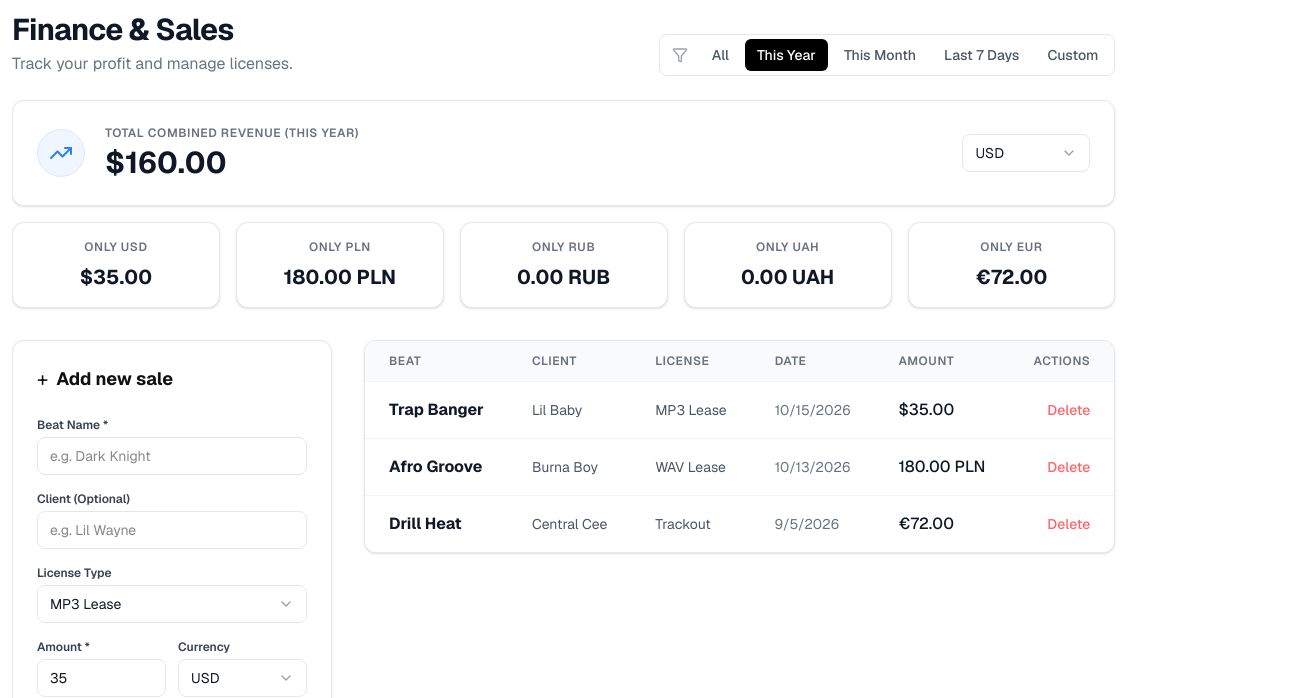
FinansePage (/finanse) › switches time filter to "Custom" and renders date pickers
Click the button "Custom".
click(1073, 55)  # box [1035,39,1110,71]
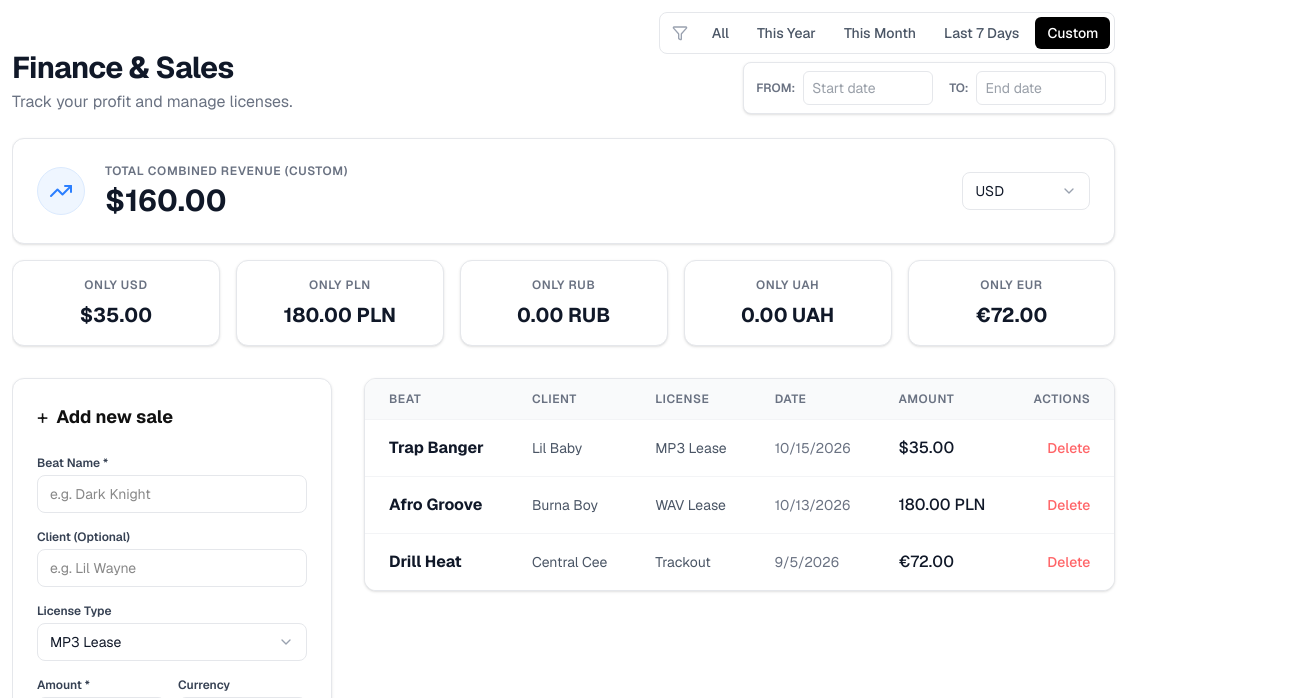
Expected: the text "From:" is shown, [756,80,795,96]
Expected: the text "To:" is shown, [949,80,968,96]
